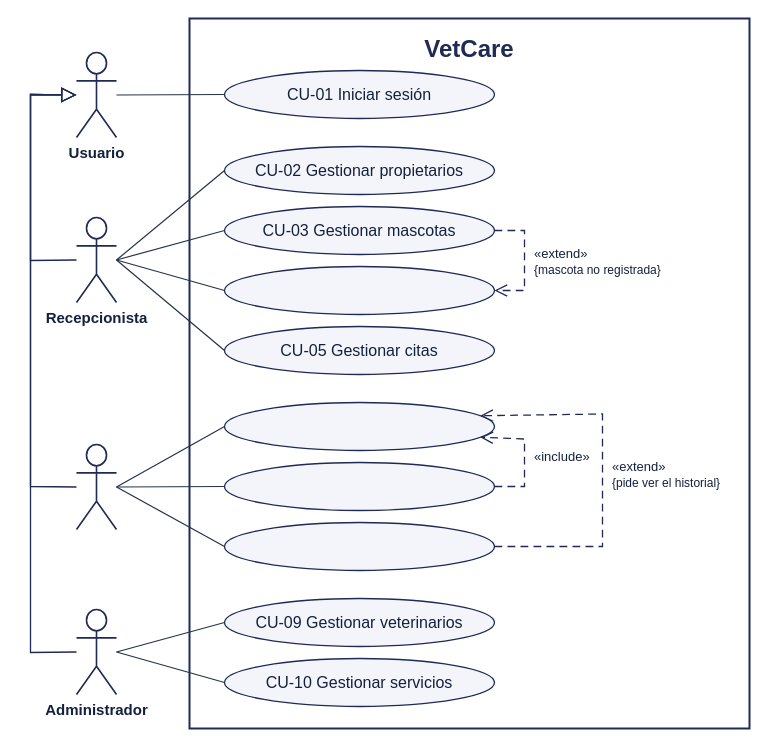
Some shapes in this 768 by 746 pixel diagram are drawn without their labels. Here are the shapes that lost their labels. From the top down, the box of each, then its label:
(223, 265, 495, 315): CU-04 Agendar cita
(223, 401, 495, 451): CU-06 Consultar agenda del día
(75, 443, 117, 530): Veterinario
(223, 461, 495, 511): CU-07 Registrar atención médica
(223, 521, 495, 571): CU-08 Consultar historial clínico
